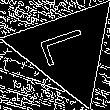L_E: (36, 27, 97, 72)
